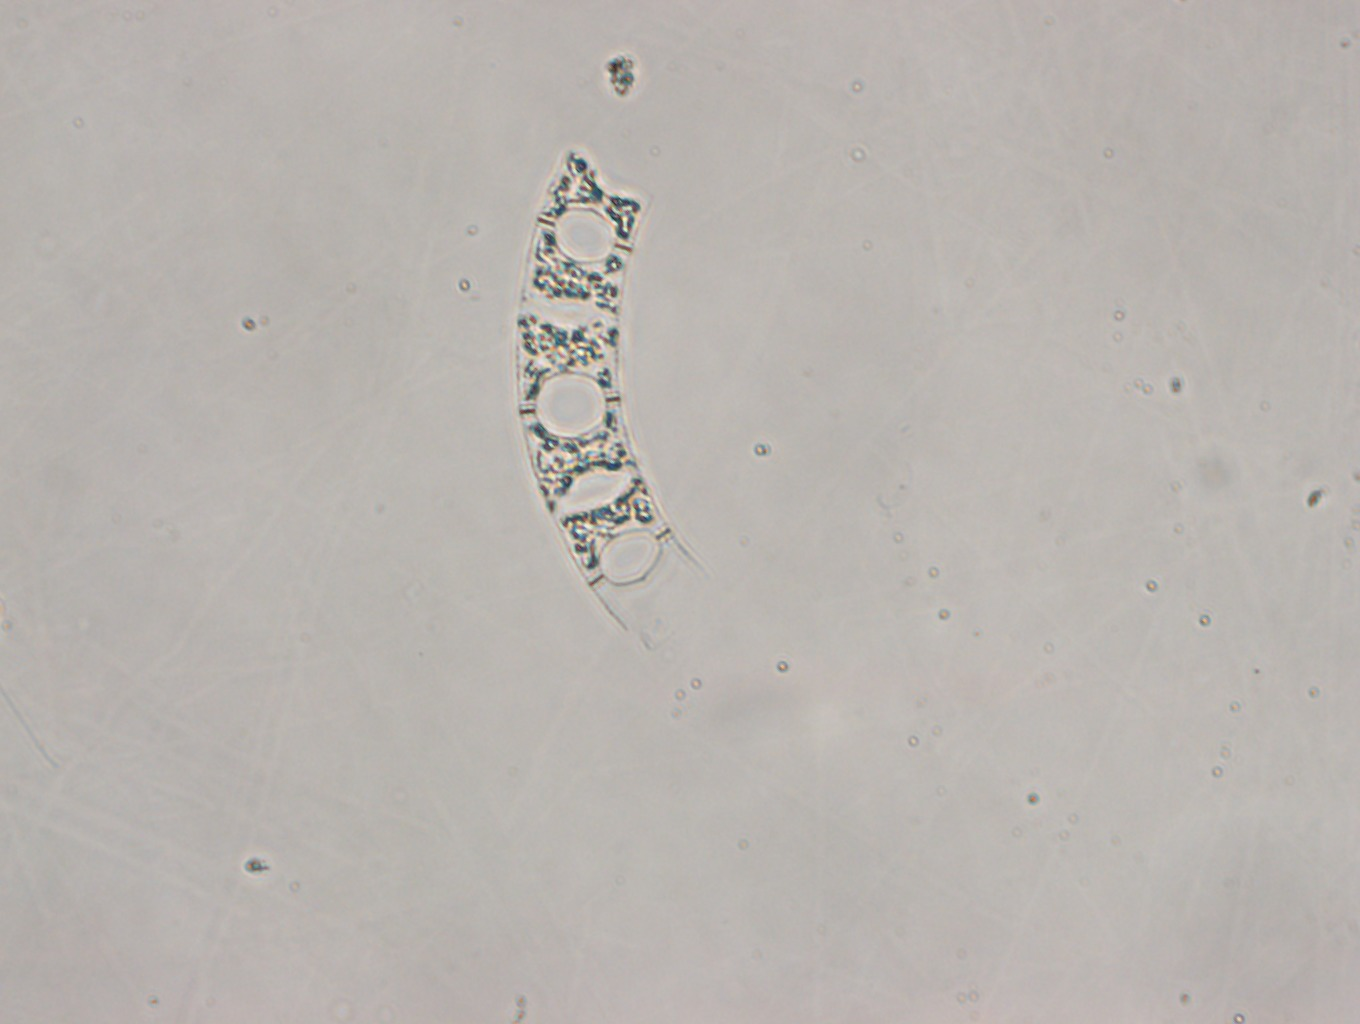eucampia: (510, 141, 700, 629)
